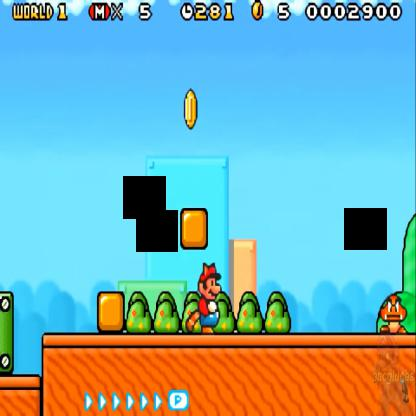Goomba: (378, 287, 407, 337)
Mario: (184, 261, 220, 336)
moneda: (184, 88, 198, 130), (249, 0, 265, 22)
